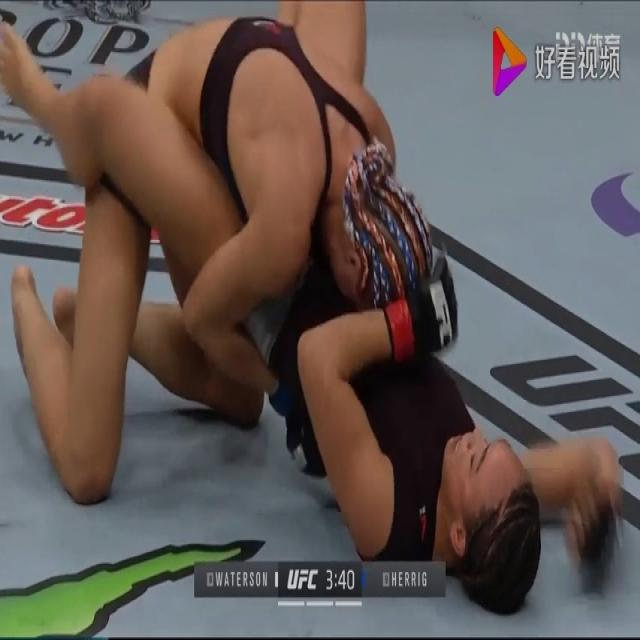fight: (0, 0, 624, 614)
